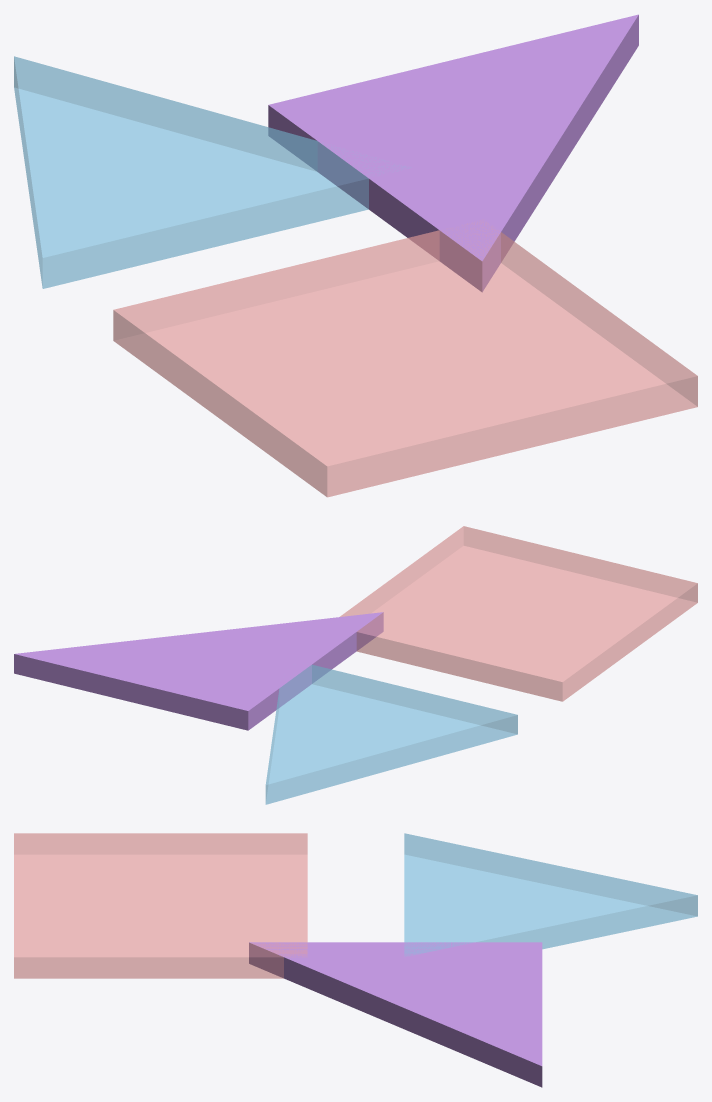
Rendered from barca_step4.glb.
3 renders of one model, top to bottom at view 1: azimuth 30°, elevation 25°; view 2: azimuth 150°, elevation 25°; view 3: azimuth 270°, elevation 25°, orthographic. The views are drawn at different scales.
Parts seen in each view (by area): view 1: quadrato_grande, triangolo_rettangolo, triangolo_isoscele_grande; view 2: quadrato_grande, triangolo_rettangolo, triangolo_isoscele_grande; view 3: quadrato_grande, triangolo_rettangolo, triangolo_isoscele_grande.
Part boxes in pixels (left/top/right/bottom): quadrato_grande: left=113, top=221, right=697, bottom=497; triangolo_rettangolo: left=268, top=14, right=638, bottom=292; triangolo_isoscele_grande: left=14, top=56, right=410, bottom=288; quadrato_grande: left=340, top=526, right=697, bottom=701; triangolo_rettangolo: left=14, top=612, right=383, bottom=730; triangolo_isoscele_grande: left=265, top=664, right=517, bottom=804; quadrato_grande: left=14, top=833, right=307, bottom=978; triangolo_rettangolo: left=249, top=942, right=542, bottom=1087; triangolo_isoscele_grande: left=404, top=833, right=697, bottom=956.
Size of the model in its own units: 1.88 by 0.08 by 2.33.
